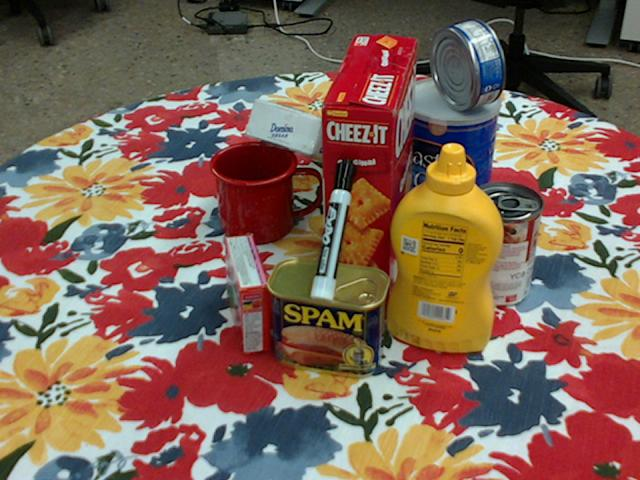cracker_box: (321, 35, 419, 313)
gelatin_box: (226, 233, 270, 353)
large_marker: (311, 157, 356, 300)
master_chef_can: (398, 77, 499, 236)
mug: (210, 141, 323, 245)
mustard_bottle: (386, 142, 504, 353)
potted_meat_can: (268, 257, 391, 377)
sugar_box: (247, 99, 394, 180)
tomato_soup_can: (462, 182, 543, 307)
tuna_fish_can: (428, 19, 504, 110)
